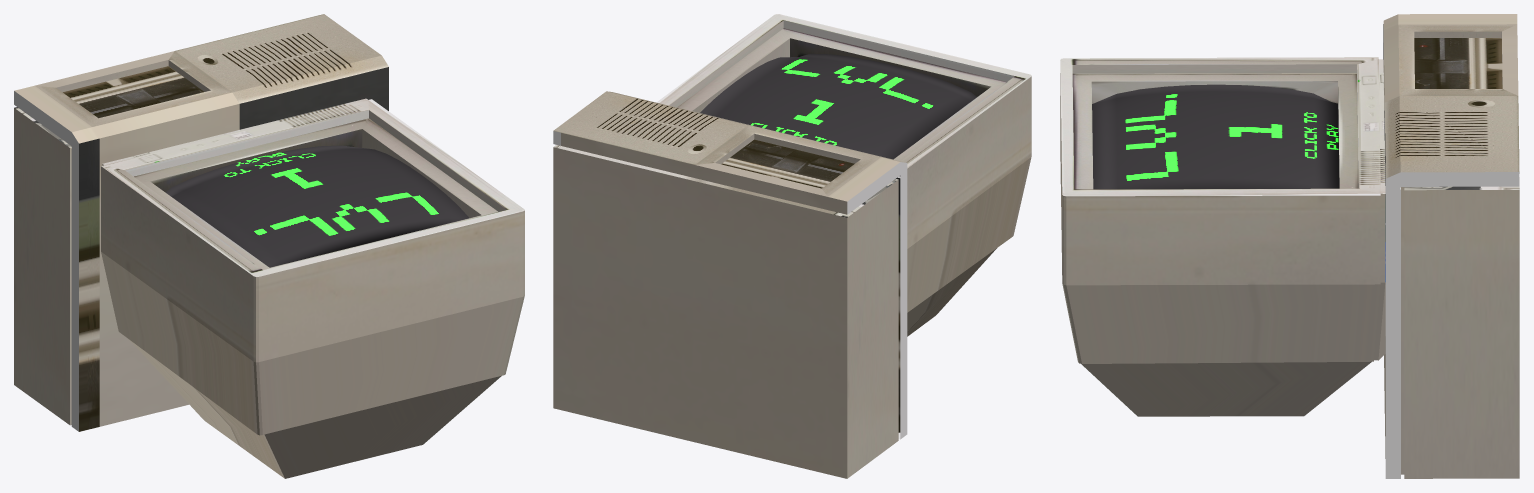
The model's file is nlvl1.glb.
3 renders of one model, left to right at view 1: azimuth 30°, elevation 25°; view 2: azimuth 150°, elevation 25°; view 3: azimuth 270°, elevation 25°, orthographic. The views are drawn at different scales.
Parts seen in each view (by area): view 1: level-1 pc; view 2: level-1 pc; view 3: level-1 pc.
Part boxes in pixels (x1=…): level-1 pc: x1=14, y1=14, x2=524, y2=478; level-1 pc: x1=553, y1=14, x2=1031, y2=478; level-1 pc: x1=1060, y1=14, x2=1519, y2=478.
Bounding box in the file's own units: 1.15 × 1.04 × 1.41.
Materials: 2 (2 with a texture image).
